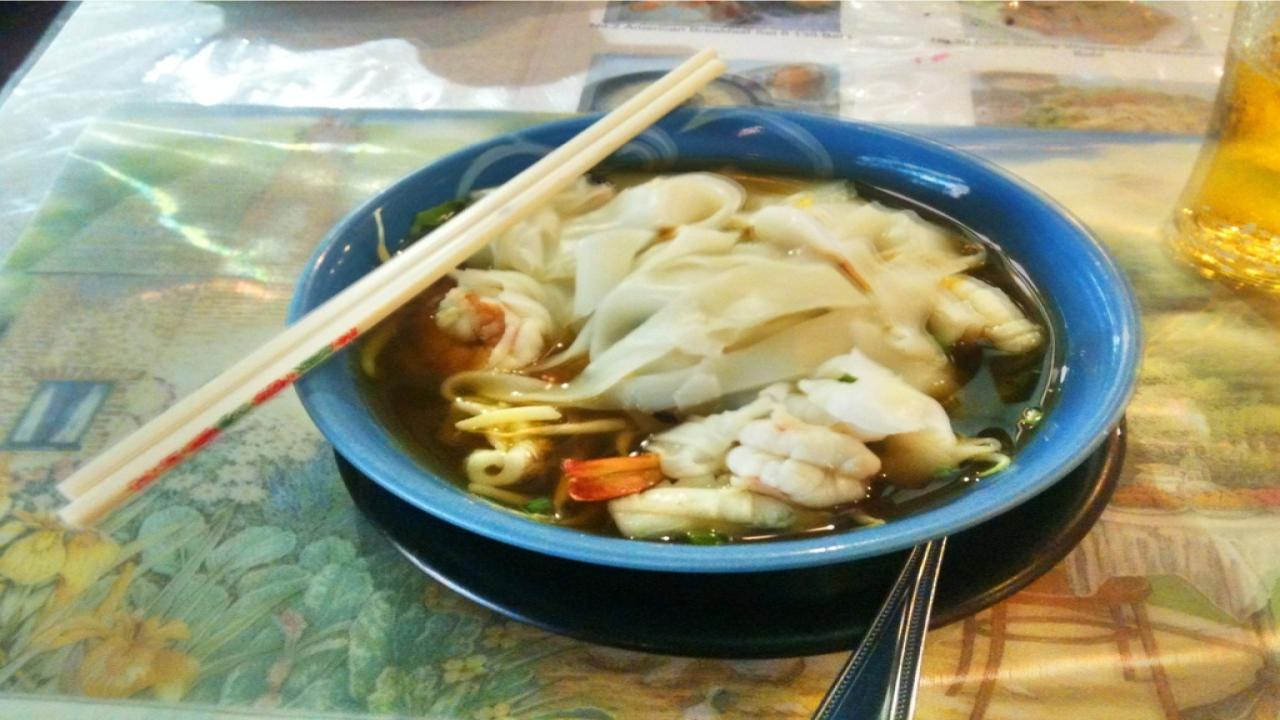chopstick: (60, 49, 729, 530)
